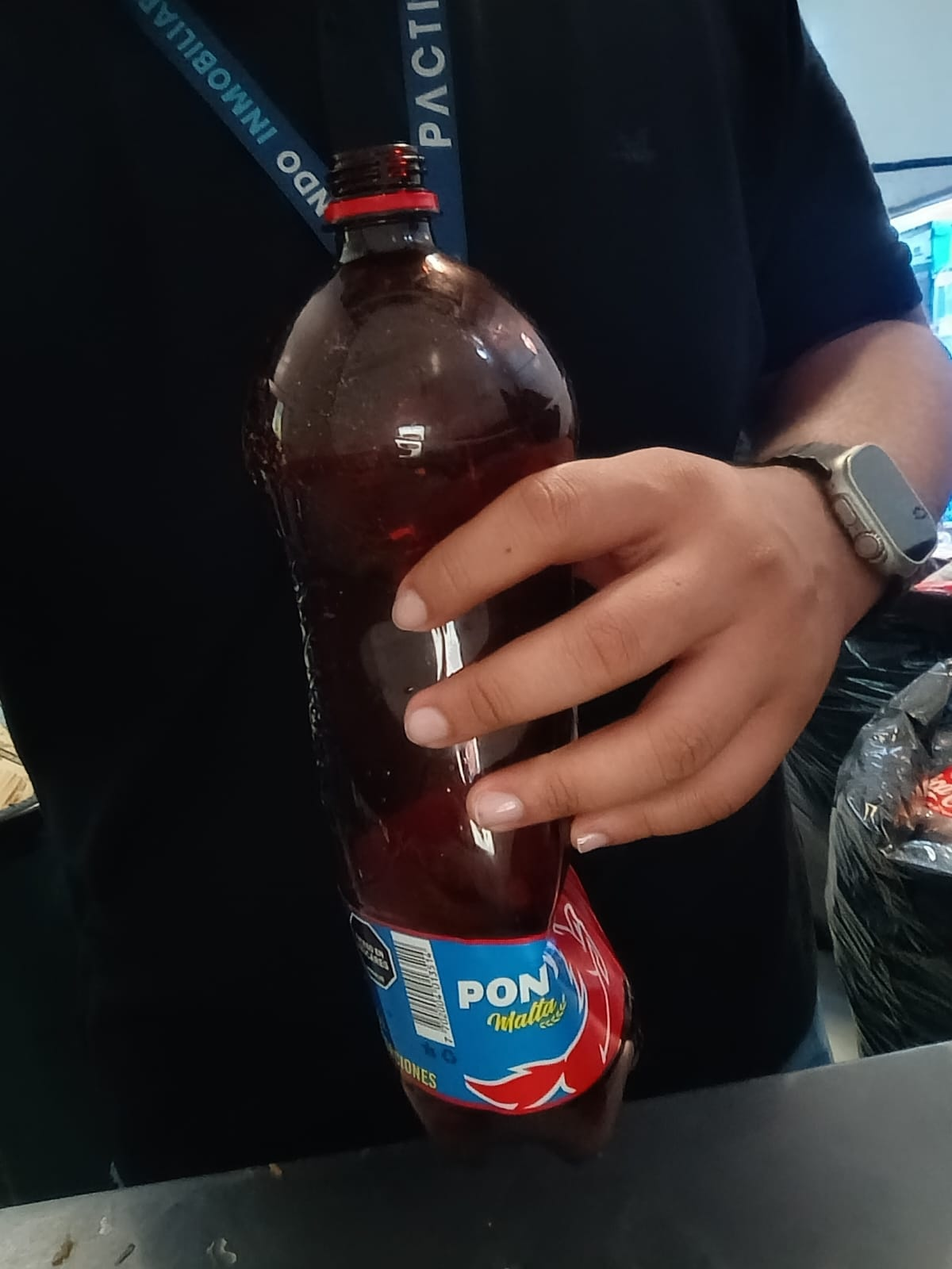Plastico: (266, 143, 639, 1172)
